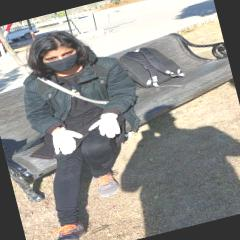gloved: (86, 110, 125, 142), (50, 125, 84, 156)
